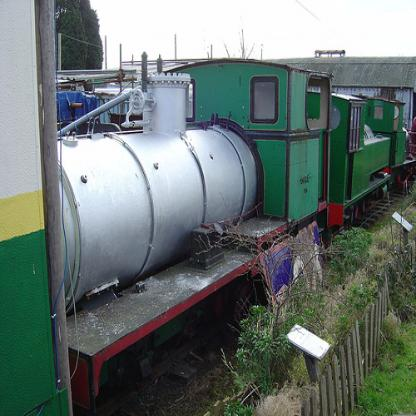train: (52, 55, 416, 410)
